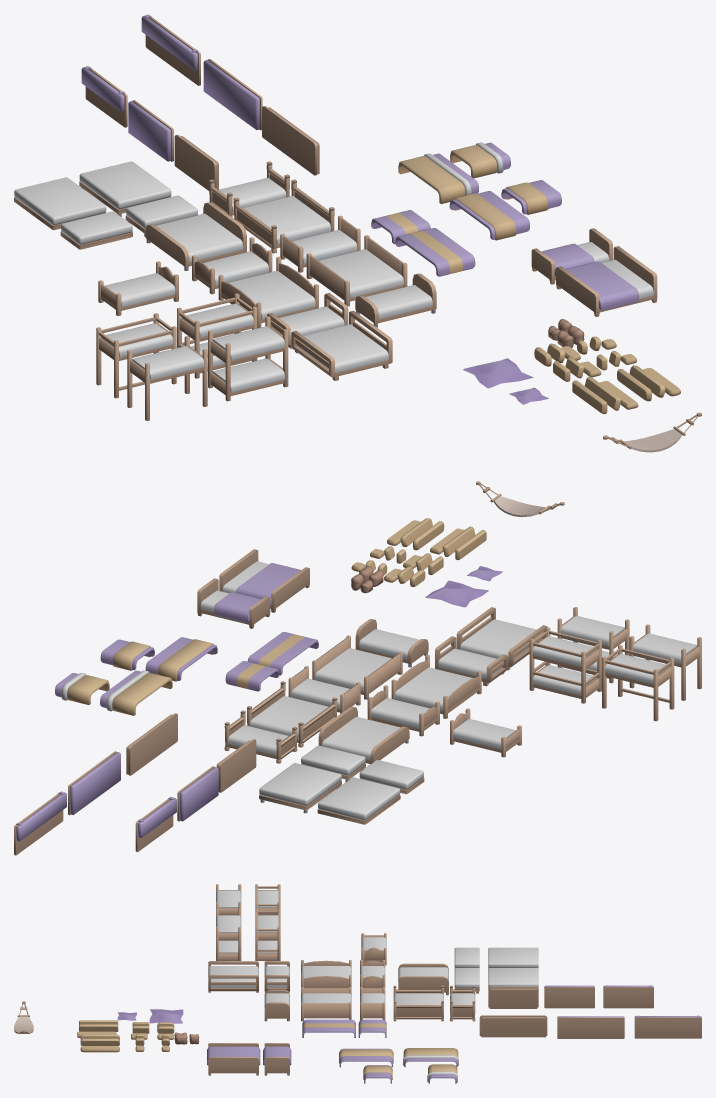
Rendered from beds.glb.
The picture shows the model from 3 angles, top to bottom: view 1: azimuth 30°, elevation 25°; view 2: azimuth 150°, elevation 25°; view 3: azimuth 270°, elevation 25°; orthographic projection. The views are drawn at different scales.
Visible parts, largest first — view 1: bed-bunk, bed-frame-double, bed-rounded-double, bed-detail-double, bed-detail-carved-double, bed-detail-rounded-double, bed-bunk-railing, bed-loft-railing, bed-matress-double, bed-matress-double-floor, bed-loft, bed-basic-double (+25 smaller); view 2: bed-bunk-railing, bed-detail-double, bed-detail-rounded-double, bed-rounded-double, bed-detail-carved-double, bed-loft-railing, bed-frame-double, bed-matress-double, bed-matress-double-floor, bed-loft, bed-detail-rounded-single, bed-bunk (+25 smaller); view 3: bed-detail-carved-double, bed-detail-double, bed-backboard-basic-wide, bed-backboard-padding-upper-wide, bed-backboard-padding-wide, bed-frame-double, bed-rounded-double, bed-detail-rounded-double, bed-bunk-railing, bed-bunk, bed-backboard-padding, bed-backboard-padding-upper (+25 smaller).
Boxes of the visible parts, <box> form: bed-bunk: <box>208,316,288,401</box>; bed-frame-double: <box>291,310,392,380</box>; bed-rounded-double: <box>145,202,246,270</box>; bed-detail-double: <box>306,235,407,306</box>; bed-detail-carved-double: <box>233,179,334,253</box>; bed-detail-rounded-double: <box>218,256,318,327</box>; bed-bunk-railing: <box>177,293,257,378</box>; bed-loft-railing: <box>96,313,176,398</box>; bed-matress-double: <box>79,161,171,216</box>; bed-matress-double-floor: <box>14,177,106,230</box>; bed-loft: <box>127,336,207,420</box>; bed-basic-double: <box>556,246,657,316</box>; bed-bunk-railing: <box>529,627,601,703</box>; bed-detail-double: <box>312,635,402,699</box>; bed-detail-rounded-double: <box>391,654,481,718</box>; bed-rounded-double: <box>318,706,409,763</box>; bed-detail-carved-double: <box>247,681,337,747</box>; bed-loft-railing: <box>602,645,674,721</box>; bed-frame-double: <box>456,607,547,670</box>; bed-matress-double: <box>259,763,341,813</box>; bed-matress-double-floor: <box>317,777,400,824</box>; bed-loft: <box>629,624,701,700</box>; bed-detail-rounded-single: <box>367,685,439,736</box>; bed-bunk: <box>557,607,629,683</box>; bed-detail-carved-double: <box>393,985,443,1021</box>; bed-detail-double: <box>301,987,351,1021</box>; bed-backboard-basic-wide: <box>479,1015,547,1037</box>; bed-backboard-padding-upper-wide: <box>634,1015,701,1038</box>; bed-backboard-padding-wide: <box>557,1016,624,1038</box>; bed-frame-double: <box>208,961,258,992</box>; bed-rounded-double: <box>398,963,448,995</box>; bed-detail-rounded-double: <box>301,960,351,987</box>; bed-bunk-railing: <box>255,909,280,960</box>; bed-bunk: <box>216,909,241,960</box>; bed-backboard-padding: <box>544,985,594,1008</box>; bed-backboard-padding-upper: <box>603,985,653,1008</box>.
Bounding box in the file's own units: 13.87 × 1.45 × 24.48.
